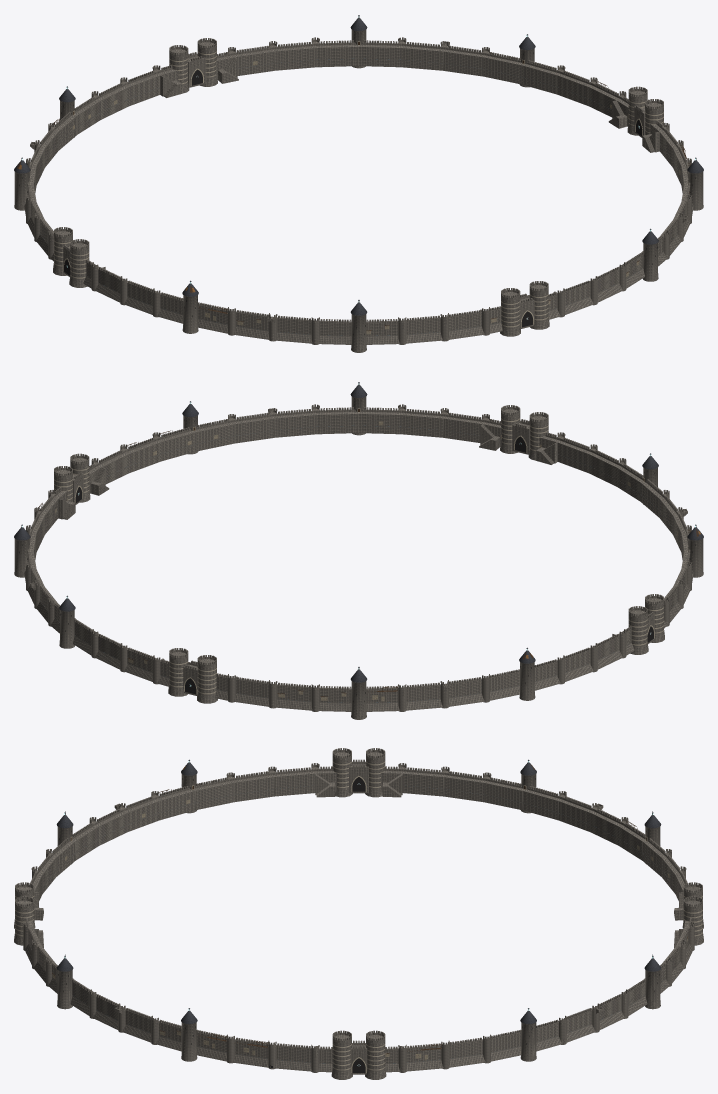
Rendered from concordia_wall_layout.glb.
3 views of the same model, one above another, from view 1: azimuth 30°, elevation 25°; view 2: azimuth 150°, elevation 25°; view 3: azimuth 270°, elevation 25° (orthographic).
Parts seen in each view (by area): view 1: GATE_Slot36_Sealed_Twin, GATE_Slot12_Sealed_Twin, GATE_Slot24_Sealed_Twin, GATE_Slot00_Sealed_Twin, WALL_Seg06_A, WALL_Seg09_A, WALL_Seg07_A, WALL_Seg08_A, WALL_Seg05_A, WALL_Seg10_B, WALL_Seg04_A, WALL_Seg03_A (+23 smaller); view 2: GATE_Slot12_Sealed_Twin, GATE_Slot36_Sealed_Twin, GATE_Slot24_Sealed_Twin, GATE_Slot00_Sealed_Twin, WALL_Seg38_A, WALL_Seg41_A, WALL_Seg39_B, WALL_Seg40_A, WALL_Seg42_A, WALL_Seg37_A, WALL_Seg43_B, WALL_Seg44_C (+23 smaller); view 3: GATE_Slot00_Sealed_Twin, GATE_Slot24_Sealed_Twin, WALL_Seg22_A, WALL_Seg25_A, WALL_Seg21_A, WALL_Seg26_A, WALL_Seg20_A, WALL_Seg27_A, GATE_Slot12_Sealed_Twin, GATE_Slot36_Sealed_Twin, WALL_Seg28_C, WALL_Seg19_A (+24 smaller).
Boxes of the visible parts, <box> form: GATE_Slot36_Sealed_Twin: <box>500,281,549,336</box>; GATE_Slot12_Sealed_Twin: <box>169,38,217,93</box>; GATE_Slot24_Sealed_Twin: <box>53,227,89,287</box>; GATE_Slot00_Sealed_Twin: <box>627,86,663,137</box>; WALL_Seg06_A: <box>401,42,444,70</box>; WALL_Seg09_A: <box>273,42,316,70</box>; WALL_Seg07_A: <box>359,40,401,67</box>; WALL_Seg08_A: <box>316,40,358,67</box>; WALL_Seg05_A: <box>443,45,485,76</box>; WALL_Seg10_B: <box>232,45,274,75</box>; WALL_Seg04_A: <box>483,52,522,84</box>; WALL_Seg03_A: <box>521,60,559,94</box>; GATE_Slot12_Sealed_Twin: <box>168,648,217,703</box>; GATE_Slot36_Sealed_Twin: <box>500,405,548,460</box>; GATE_Slot24_Sealed_Twin: <box>628,594,664,654</box>; GATE_Slot00_Sealed_Twin: <box>54,453,90,504</box>; WALL_Seg38_A: <box>401,409,444,437</box>; WALL_Seg41_A: <box>273,409,316,437</box>; WALL_Seg39_B: <box>359,407,401,434</box>; WALL_Seg40_A: <box>316,407,358,434</box>; WALL_Seg42_A: <box>232,412,274,443</box>; WALL_Seg37_A: <box>443,412,485,442</box>; WALL_Seg43_B: <box>195,419,234,451</box>; WALL_Seg44_C: <box>158,427,196,461</box>; GATE_Slot00_Sealed_Twin: <box>331,1030,386,1079</box>; GATE_Slot24_Sealed_Twin: <box>332,748,385,797</box>; WALL_Seg22_A: <box>402,767,444,796</box>; WALL_Seg25_A: <box>273,767,315,796</box>; WALL_Seg21_A: <box>444,771,486,802</box>; WALL_Seg26_A: <box>231,771,273,802</box>; WALL_Seg20_A: <box>484,777,523,810</box>; WALL_Seg27_A: <box>194,777,233,810</box>; GATE_Slot12_Sealed_Twin: <box>682,882,703,945</box>; GATE_Slot36_Sealed_Twin: <box>14,882,35,945</box>; WALL_Seg28_C: <box>156,786,194,820</box>; WALL_Seg19_A: <box>523,786,561,820</box>.
Size of what is drawn, in the model's own units: 415 by 34.08 by 415.
Materials: 10 (7 with a texture image).
